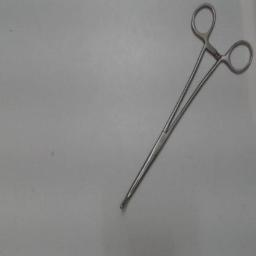Lahey Forceps: (116, 1, 254, 215)
